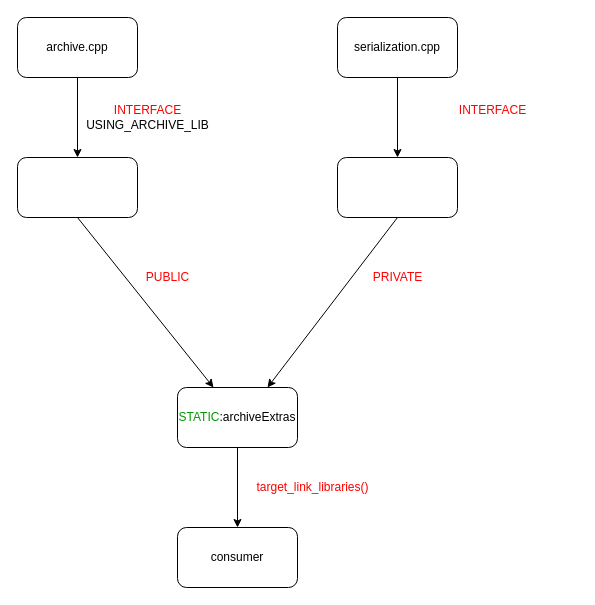
Some shapes in this 595 by 605 pixel diagram are drawn without their labels. Each missing label, with the centre of its shape:
STATIC :archive: [77,187]
STATIC :serialization: [397,187]
